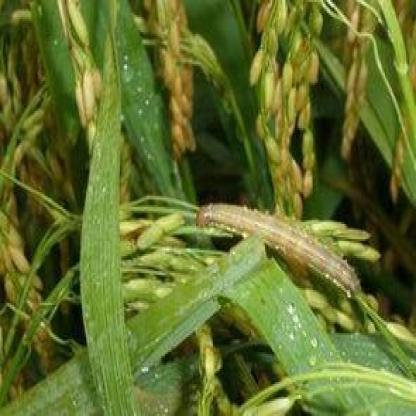armyworm: (192, 196, 362, 296)
